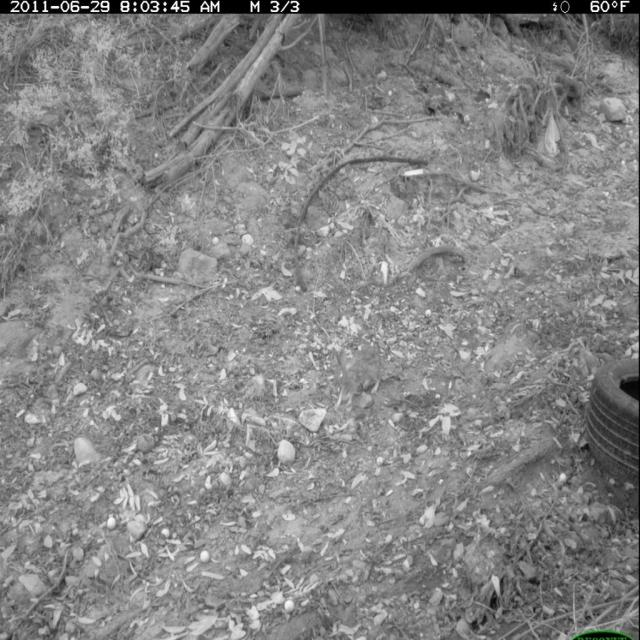rabbit: (324, 339, 391, 417)
